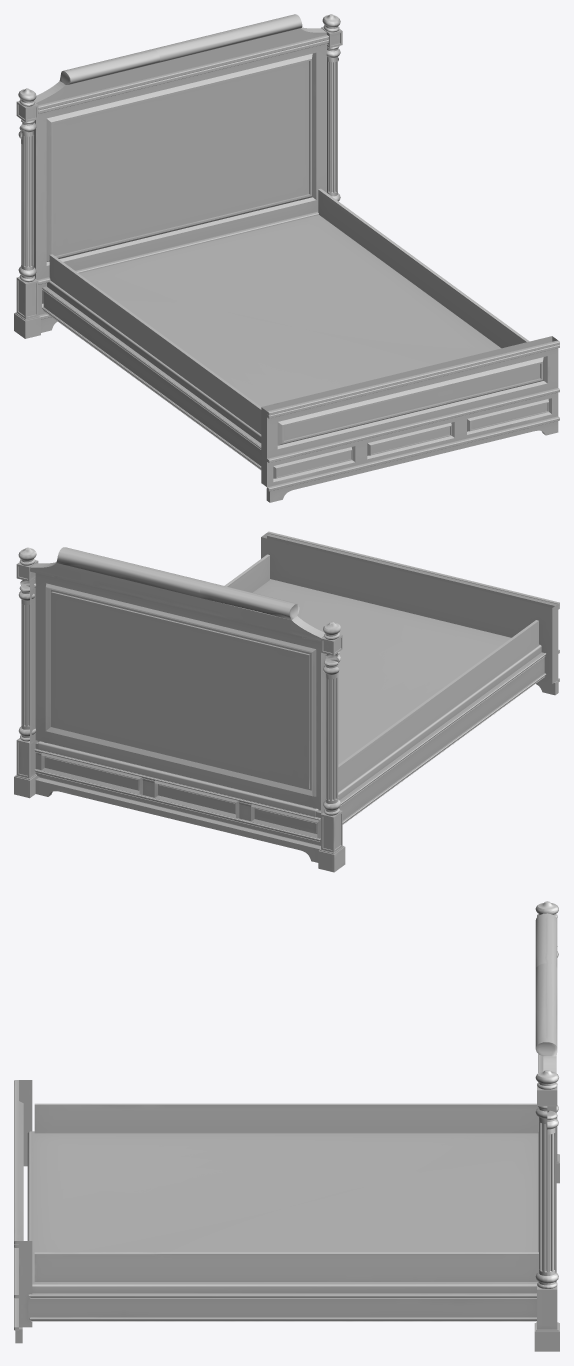
The model's file is raw_model.obj.
The picture shows the model from 3 angles, top to bottom: view 1: azimuth 30°, elevation 25°; view 2: azimuth 150°, elevation 25°; view 3: azimuth 270°, elevation 25°; orthographic projection. The views are drawn at different scales.
Parts seen in each view (by area): view 1: solid_002, solid_001; view 2: solid_002, solid_001; view 3: solid_002, solid_001.
Boxes of the visible parts, box(x1,y1,x2,y2) form: solid_002: box(14, 14, 559, 502); solid_001: box(49, 188, 529, 434); solid_002: box(14, 531, 559, 872); solid_001: box(44, 554, 538, 808); solid_002: box(14, 901, 559, 1351); solid_001: box(34, 1103, 538, 1281).
Size of the model in its own units: 1.58 by 1.19 by 2.05.
1 material, 1 textured.
